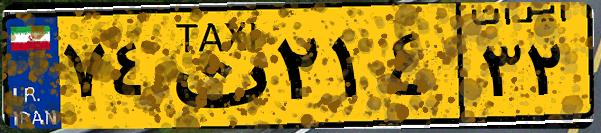1: (330, 28, 385, 110)
2: (270, 28, 330, 110), (525, 38, 570, 115)
3: (475, 38, 525, 113)
4: (385, 28, 445, 110), (110, 28, 158, 98)
7: (57, 26, 110, 100)
ت: (158, 12, 270, 120)
